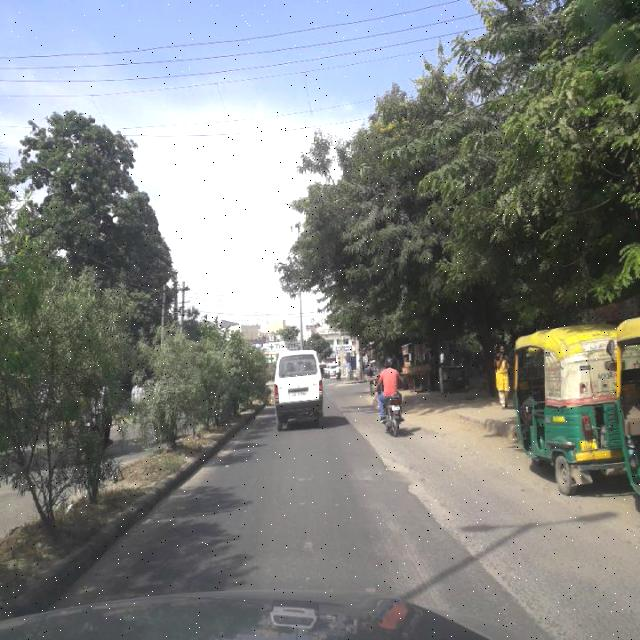D40: (380, 450, 442, 502)
